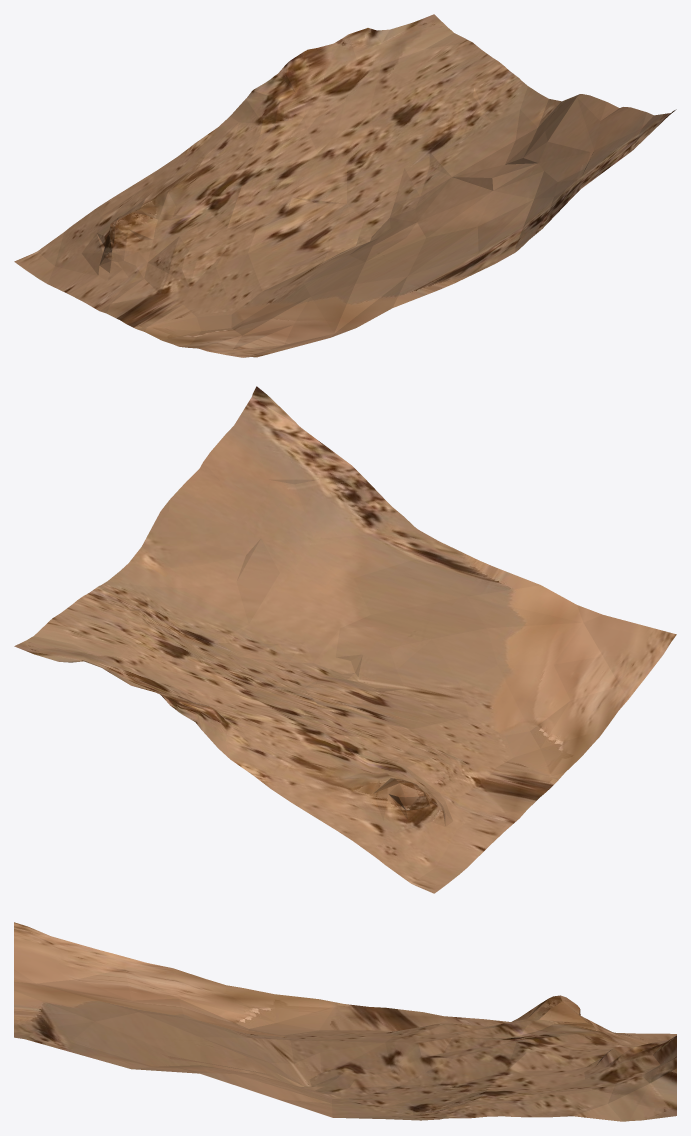
3 views of the same model, one above another, from view 1: azimuth 30°, elevation 25°; view 2: azimuth 150°, elevation 25°; view 3: azimuth 270°, elevation 25° (orthographic). The views are drawn at different scales.
Size of the model in its own units: 1.04 by 0.5402 by 1.04.
Materials: 2 (2 with a texture image).
